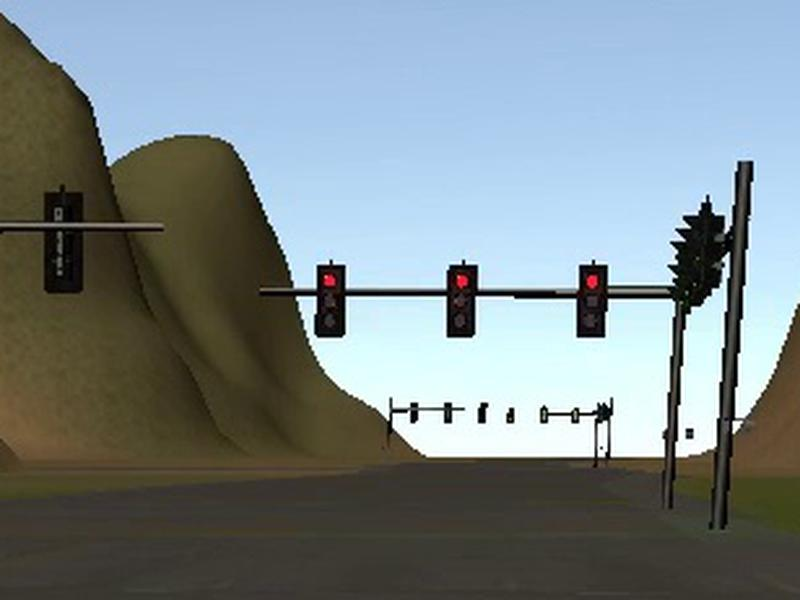Red: (448, 265, 478, 336), (578, 265, 607, 338), (316, 265, 345, 335)
